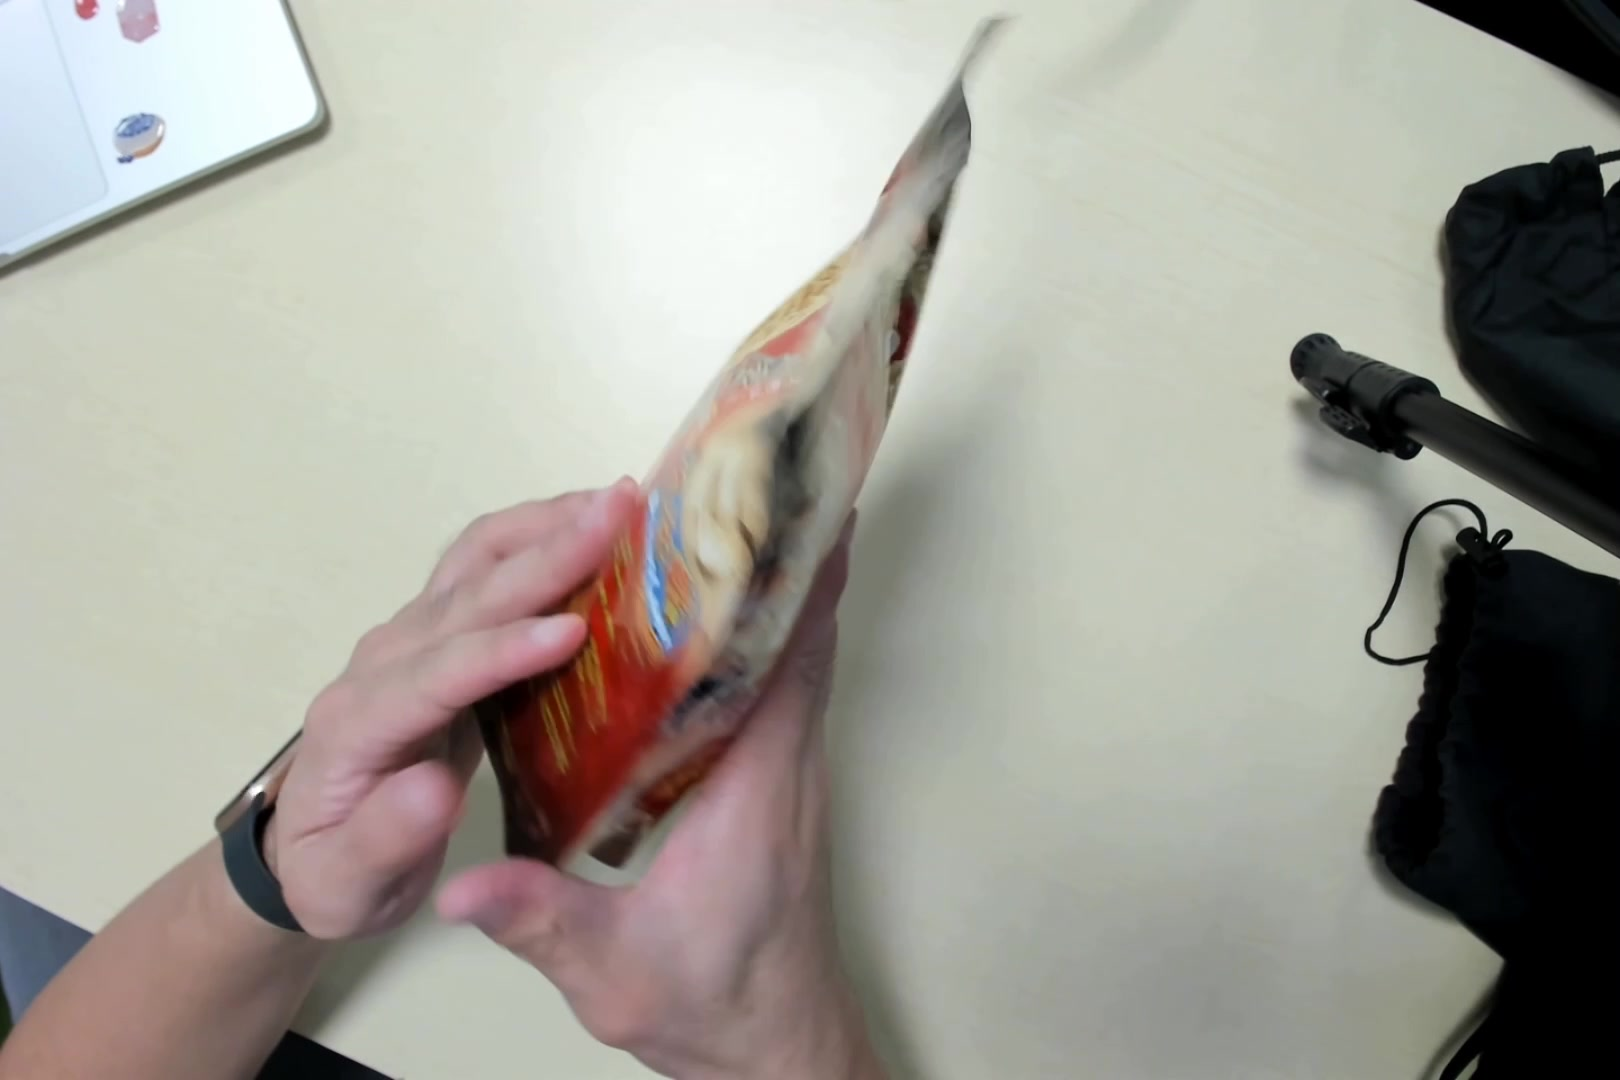SweetsChocolatesOthers_300-399g_NonHalal_NonHealthy: (492, 2, 1008, 871)
